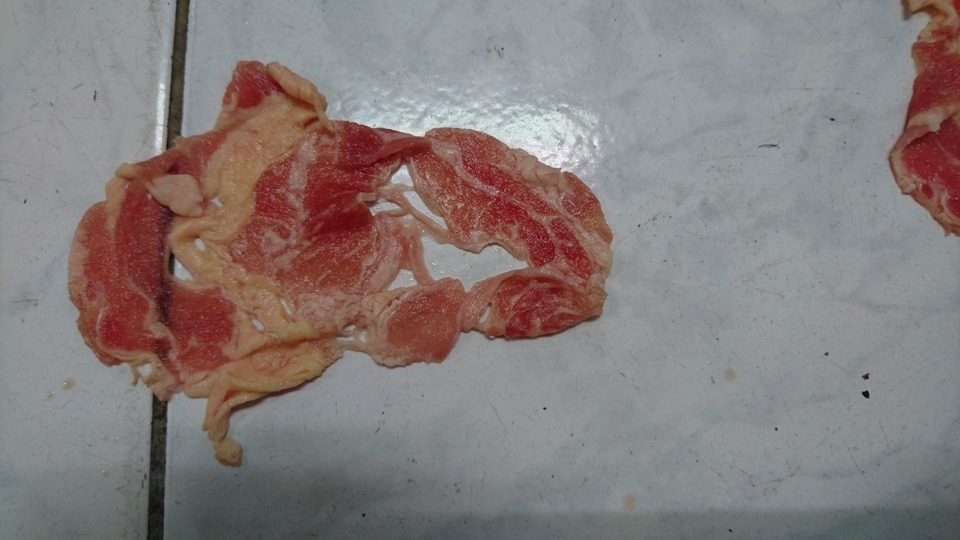restructured meat: (77, 77, 623, 422)
